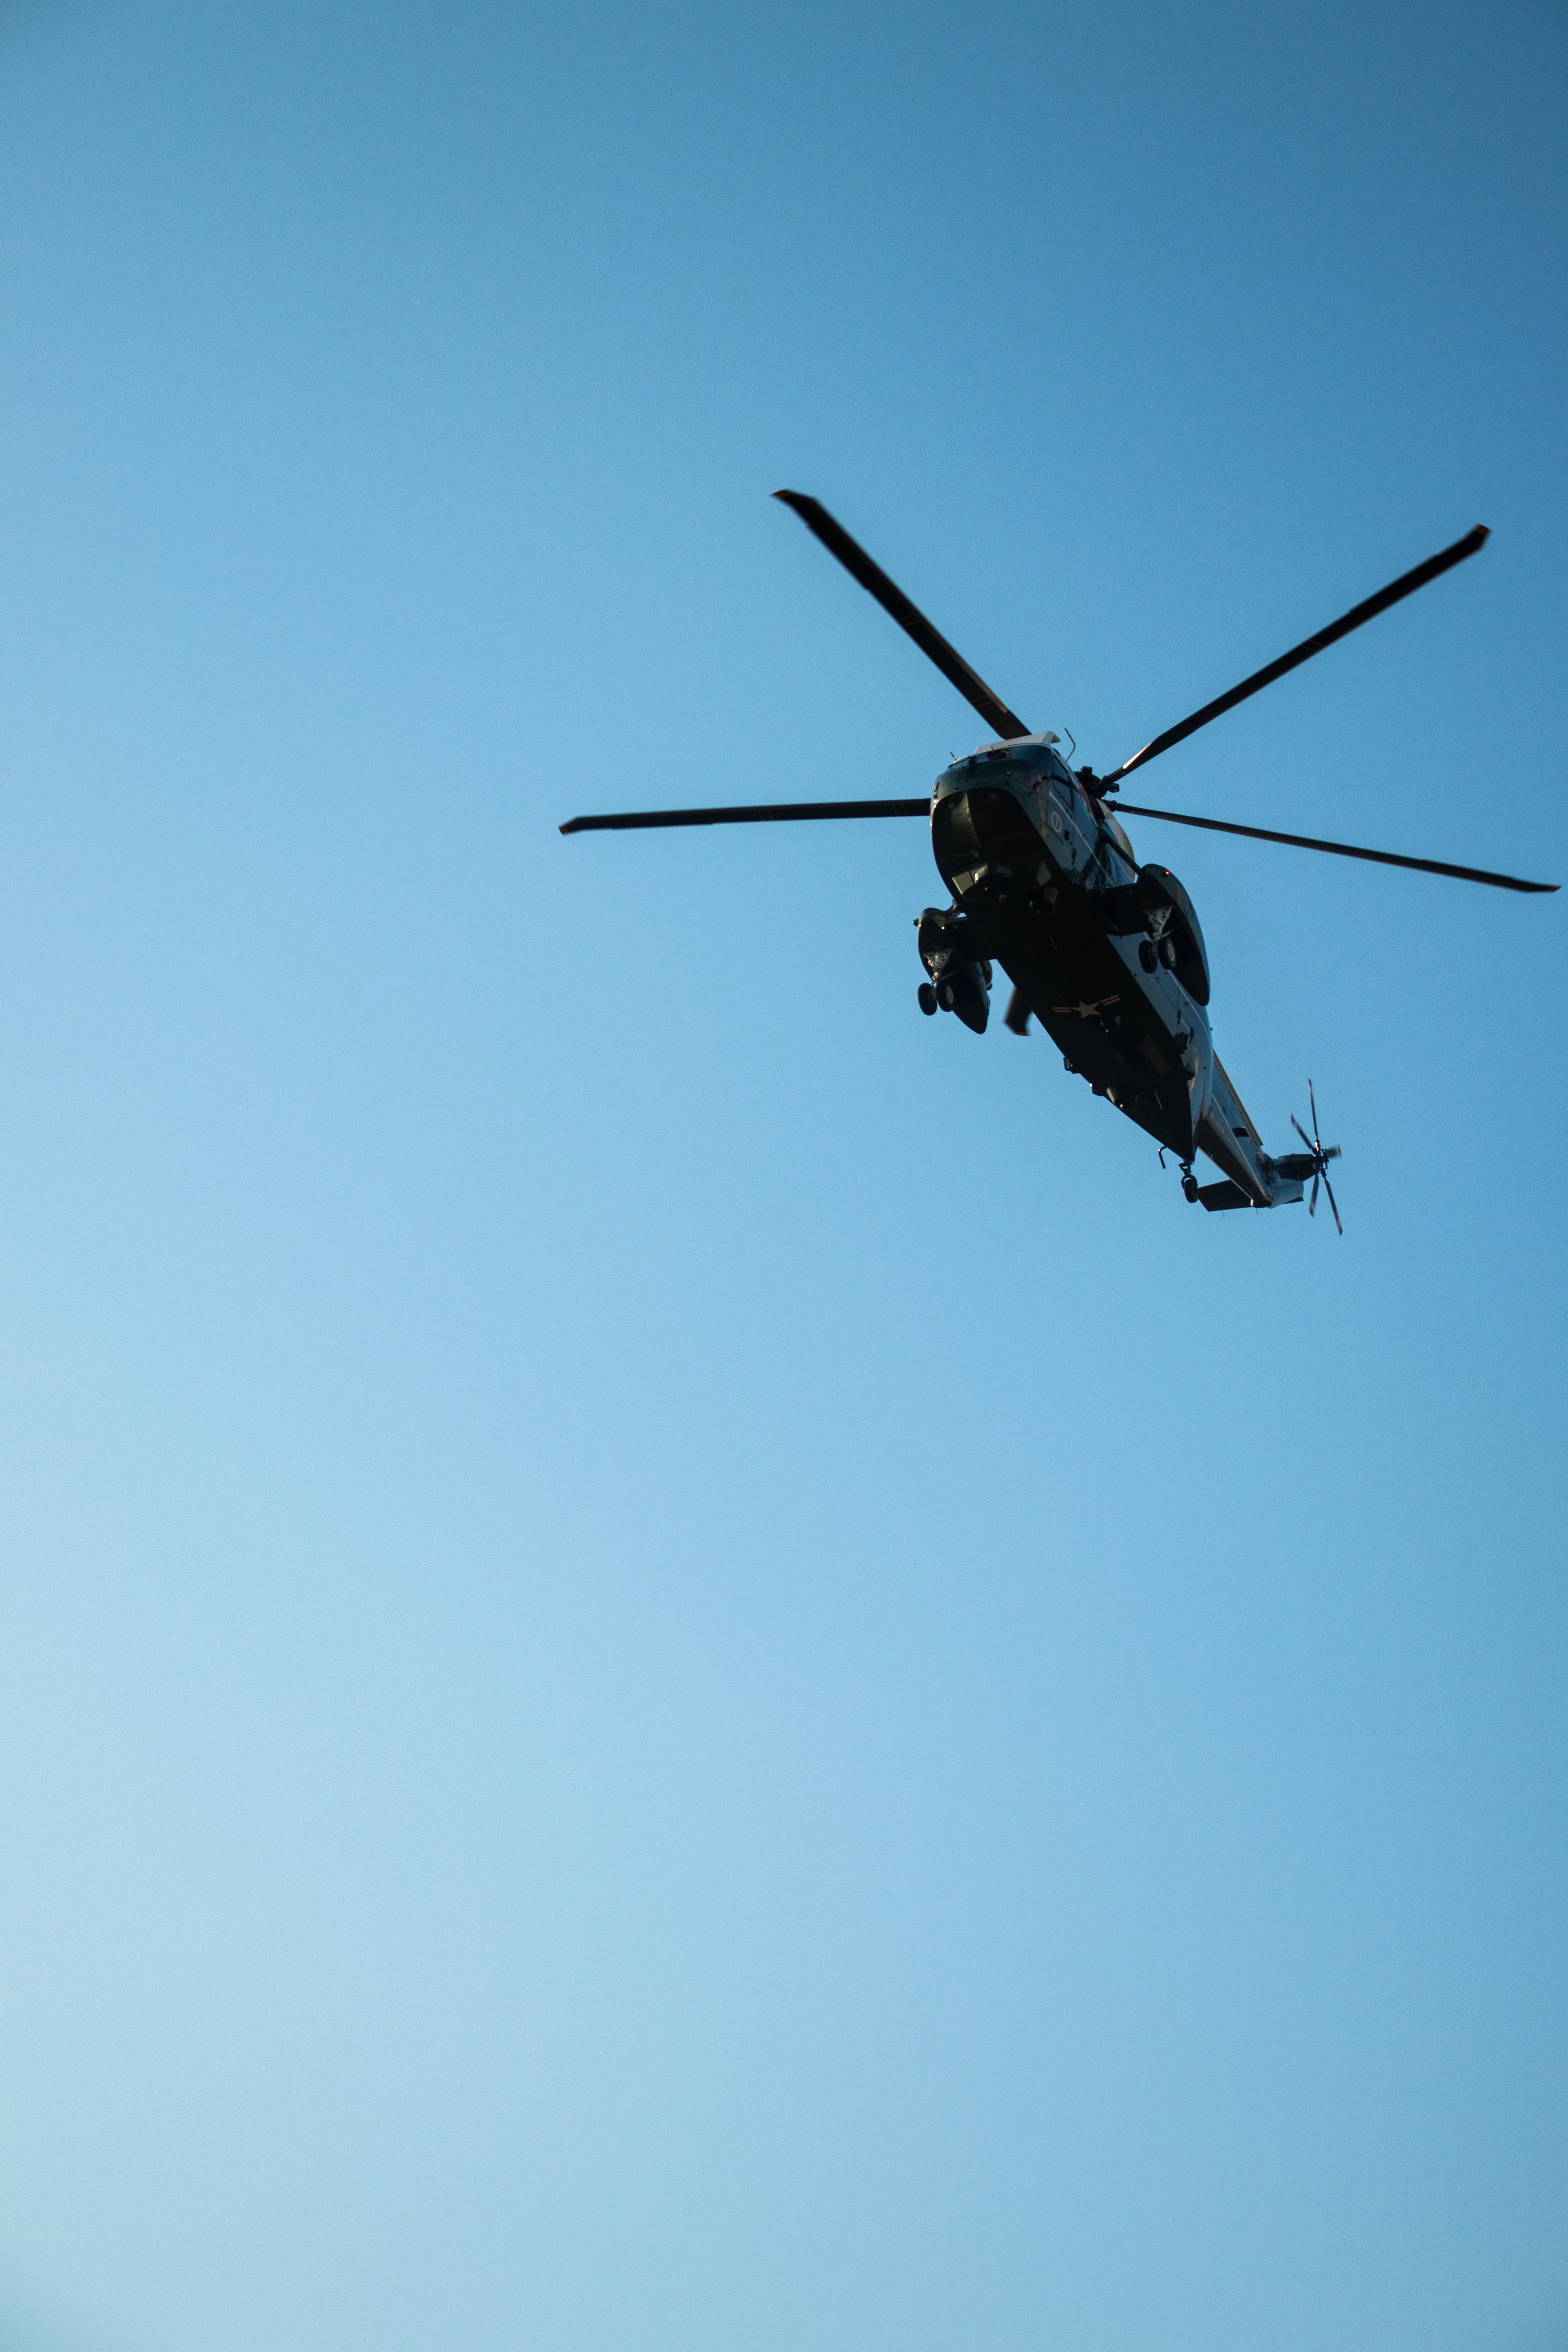helicopter: (502, 327, 1568, 1244)
